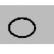no answer: (6, 16, 38, 39)
